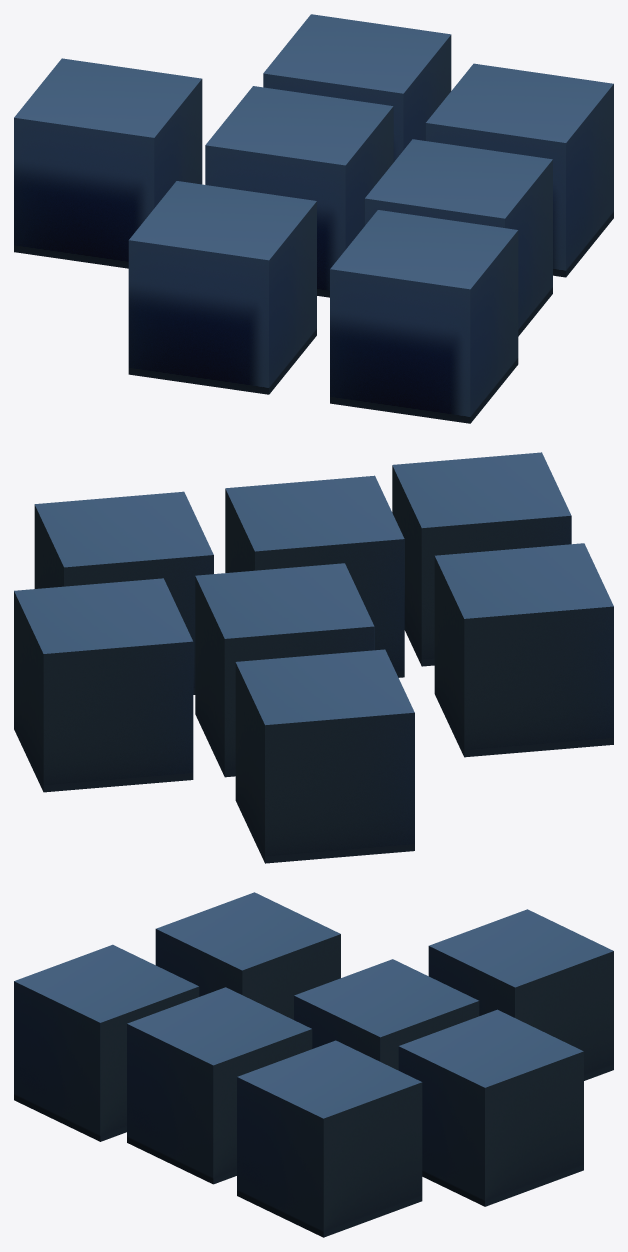
The model's file is land_right.glb.
3 renders of one model, top to bottom at view 1: azimuth 30°, elevation 25°; view 2: azimuth 150°, elevation 25°; view 3: azimuth 270°, elevation 25°, orthographic. The views are drawn at different scales.
Visible parts, largest first — view 1: Cube.001; view 2: Cube.001; view 3: Cube.001.
Boxes of the visible parts, bbox=[...] form: Cube.001: bbox=[14, 14, 613, 423]; Cube.001: bbox=[14, 452, 613, 863]; Cube.001: bbox=[14, 892, 613, 1237].
Size of the model in its own units: 1.43 by 0.3513 by 1.6.
Materials: 1 (1 with a texture image).
